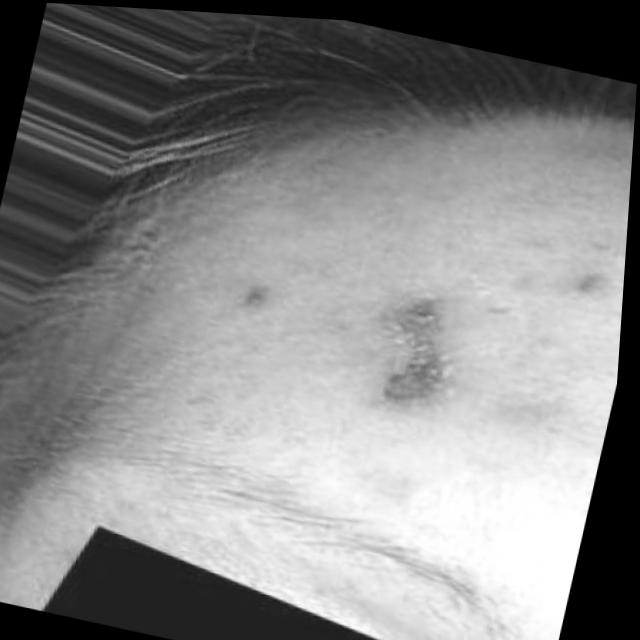Rosacea: (356, 284, 466, 418)
